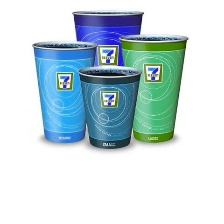paper_cup: (114, 30, 193, 147), (28, 36, 100, 146), (76, 62, 144, 152), (69, 5, 148, 73)
